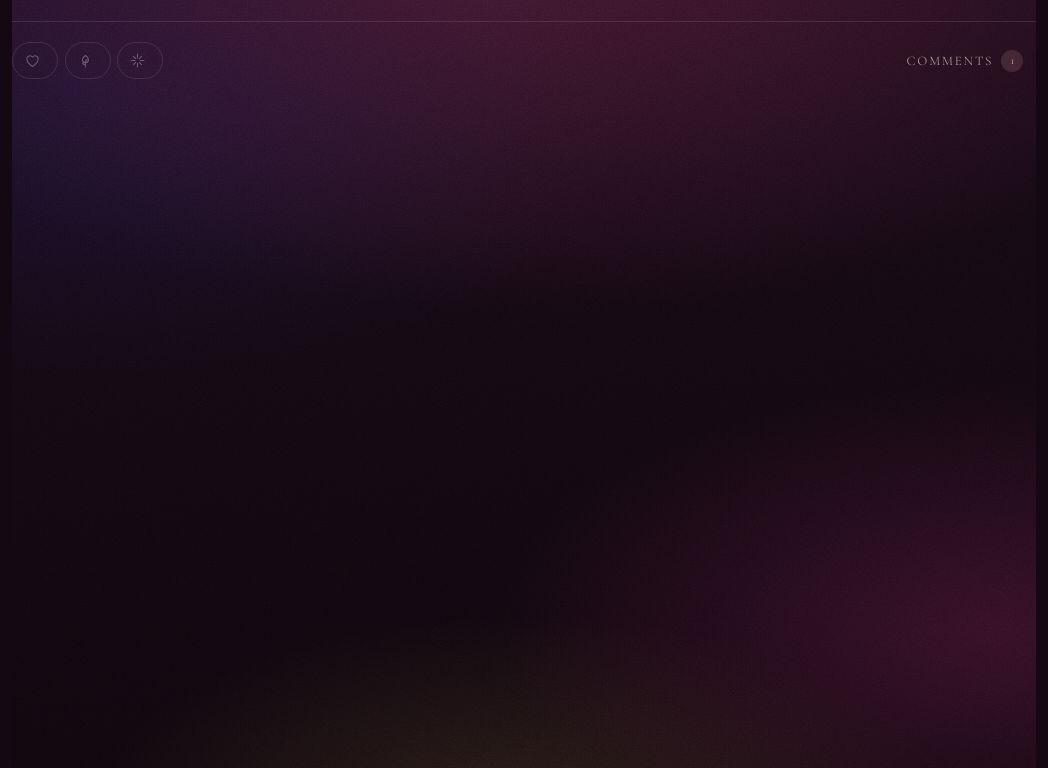
Test case: comments › lets the admin delete a comment
Click the button "Comments 1".
click(965, 61)  # box [894, 39, 1036, 82]
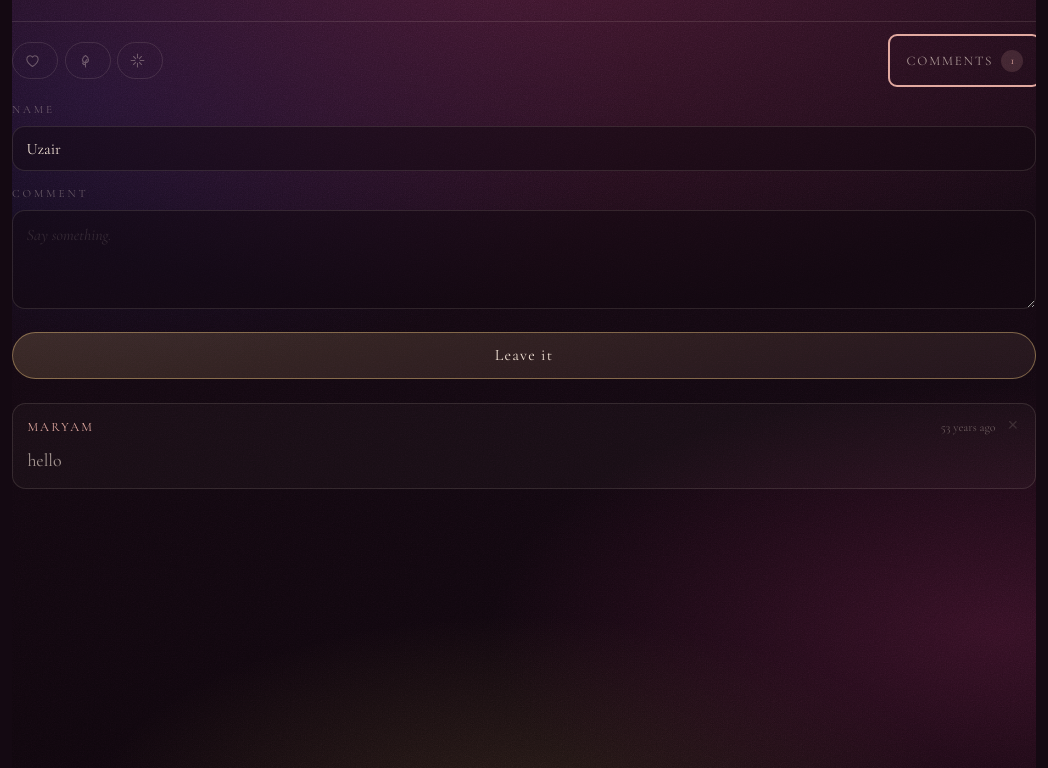
Click the button named "delete the comment".
click(1013, 426)  # box [1005, 416, 1021, 435]
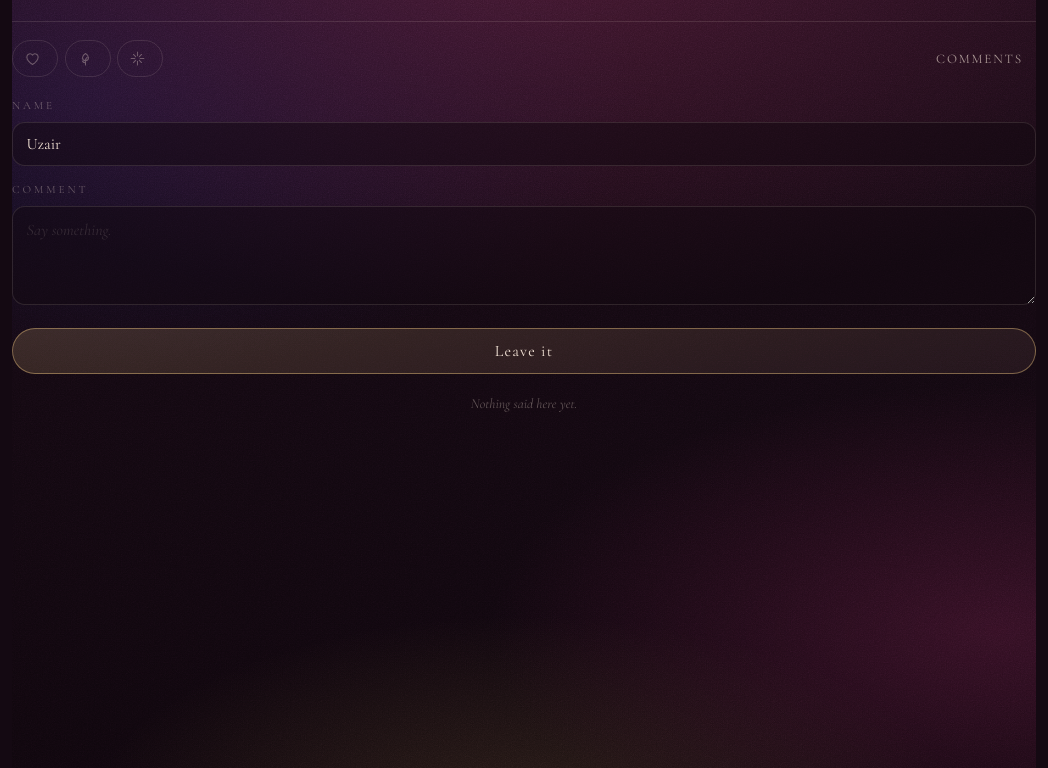
Result: the text "hello" is gone
